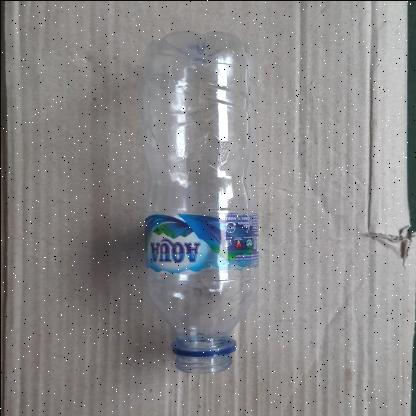Plastic Bottle: (145, 32, 257, 374)
